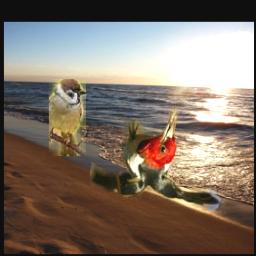Sparrow: (49, 80, 86, 157)
Woodpecker: (89, 105, 227, 215)
